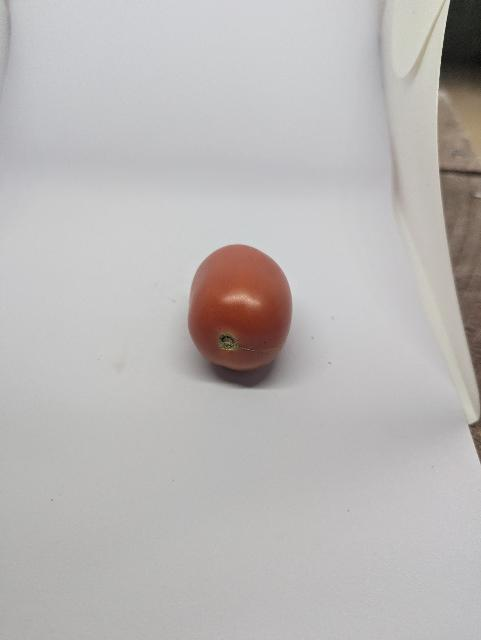red: (174, 232, 313, 382)
